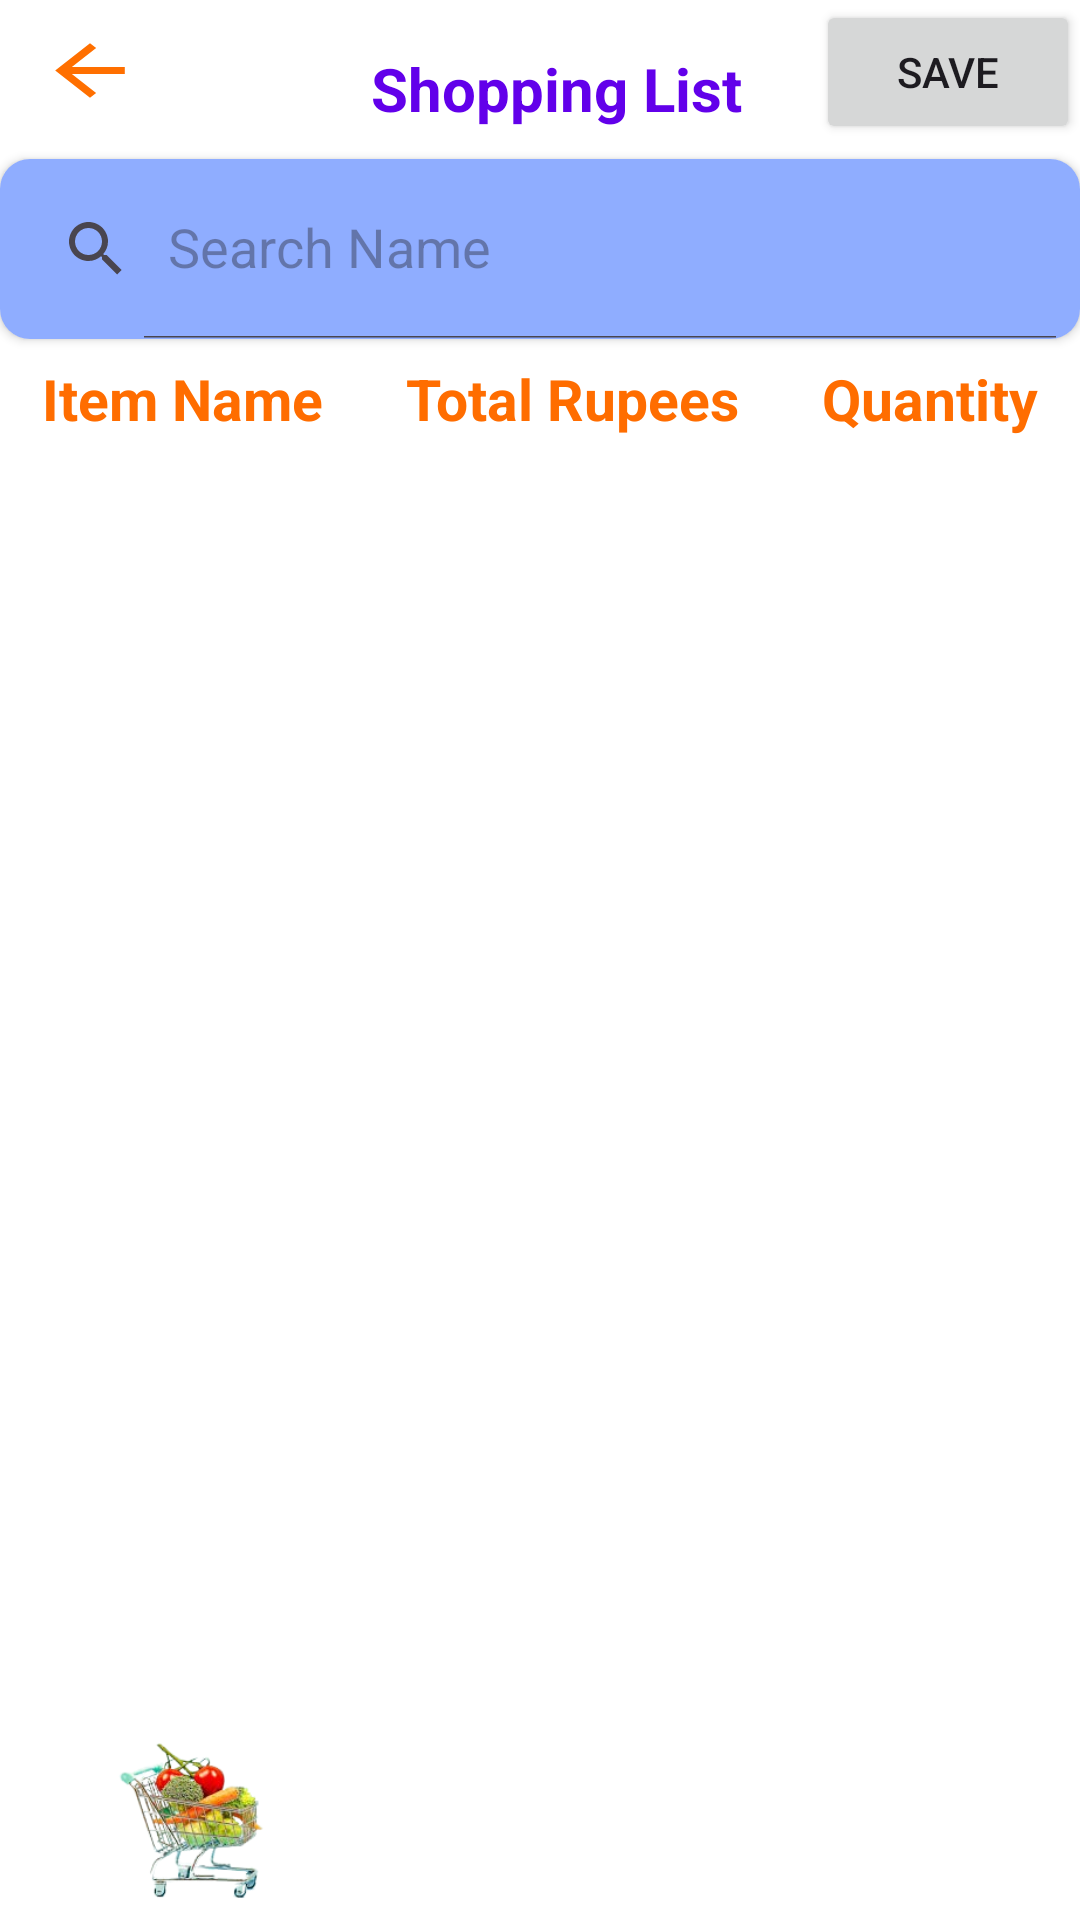

Icon click points for this 1080x1920 phone screenshot, format (x,y):
back: (90,70)
cart: (191,1820)
